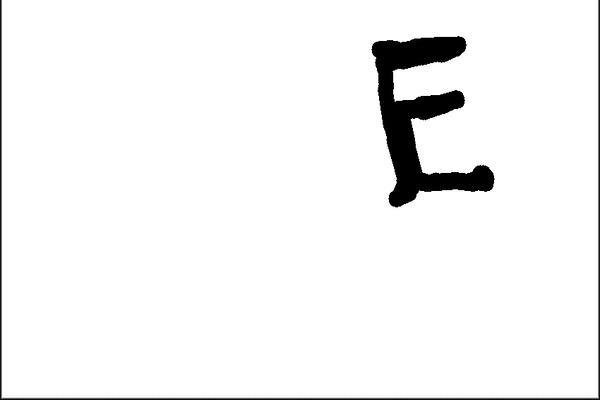E: (366, 31, 499, 210)
